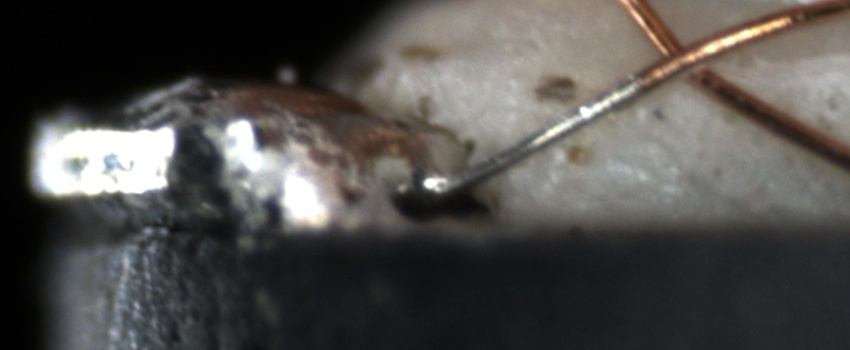CL: (645, 24, 736, 93)
DL: (609, 44, 850, 81)
TS: (444, 74, 644, 193)
